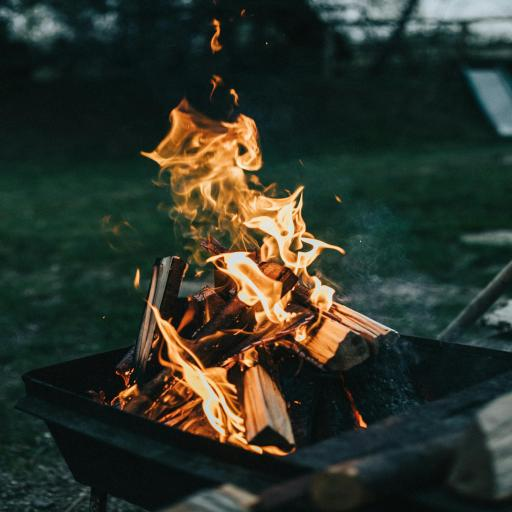campfire: (10, 2, 512, 483)
